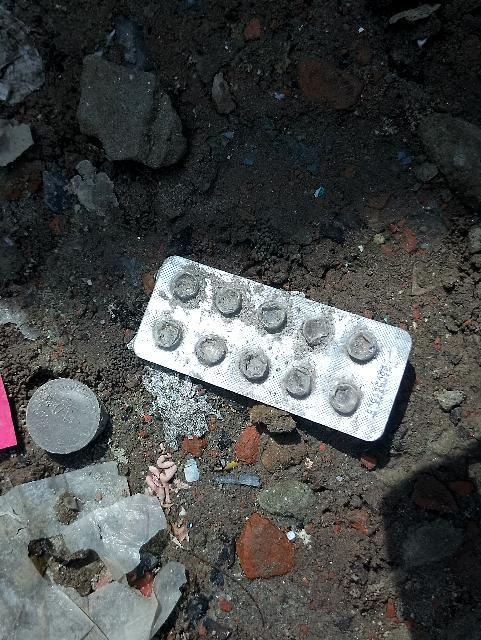medicine: (114, 241, 426, 460)
